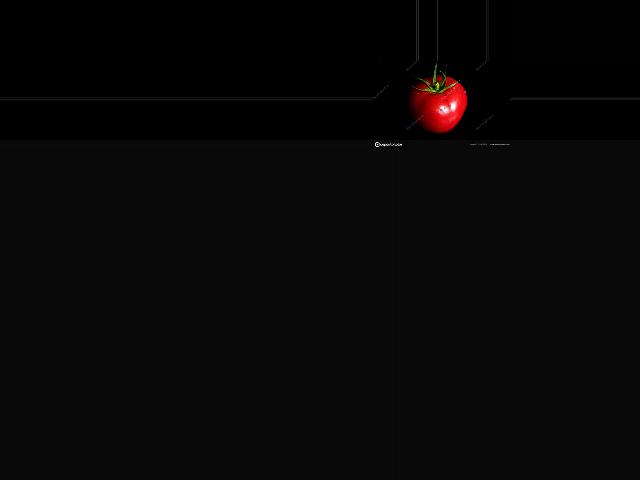tomato: (407, 75, 467, 133)
